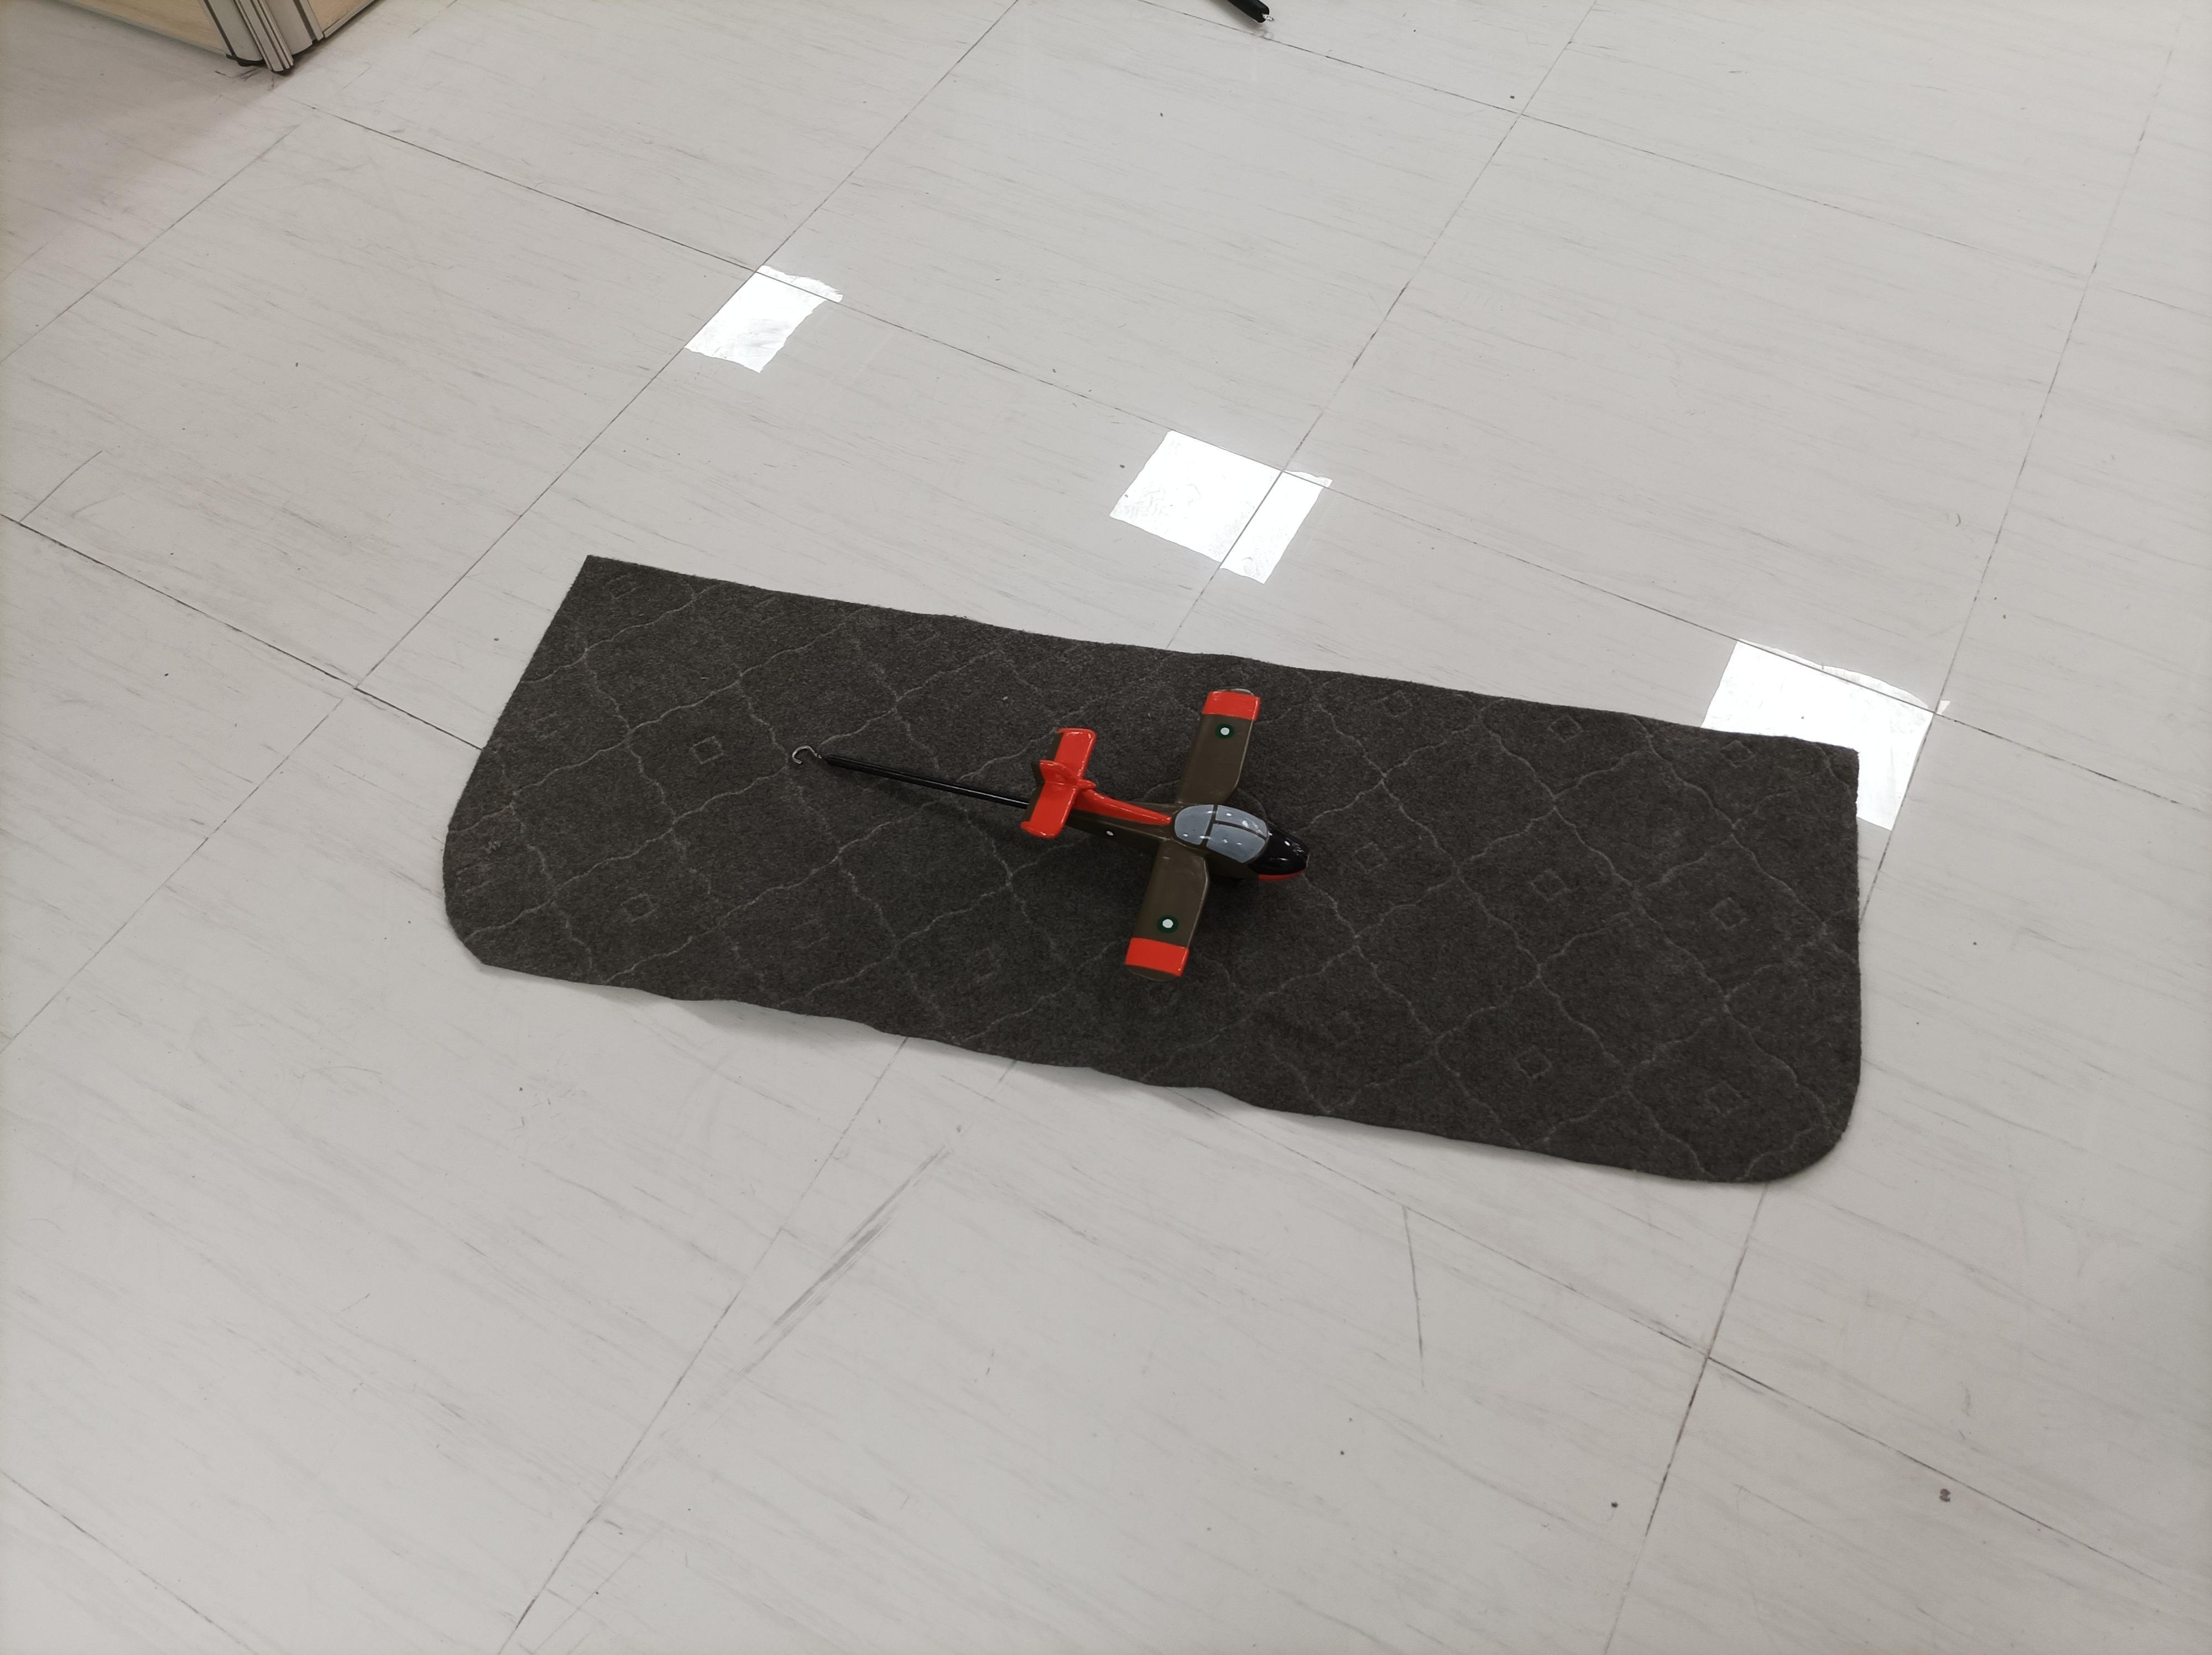Airplane: (1011, 666, 1324, 998)
